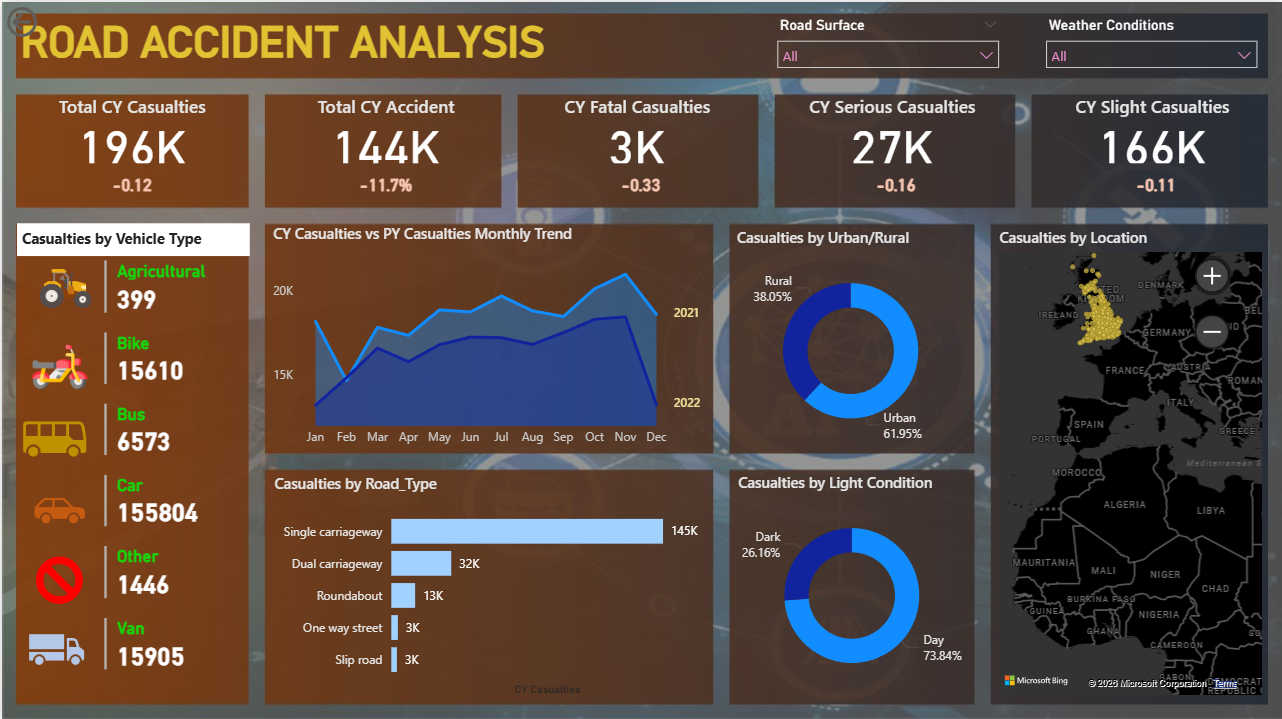

Layout of this report page (visuals, bound fields, positions):
{"tool":"powerbi","page":{"name":"Page 1","canvas":[1280,720],"ordinal":0},"visuals":[{"type":"group","id":"g1","title":"Group 2","box":[13.7,91.9,233.3,109.8],"z":0},{"type":"group","id":"g2","title":"Group 1","box":[13.7,91.9,233.3,74.1],"z":0,"group":"g1"},{"type":"card","title":"Total CY Casualties","fields":{"Values":["Data.CY Casualties"]},"box":[13.7,91.9,233.3,74.1],"z":0,"group":"g2"},{"type":"group","id":"g3","title":"Group 1","box":[267.6,91.9,233.3,74.1],"z":0,"group":"g7"},{"type":"card","title":"Total CY Accident","fields":{"Values":["Data.CY Acciedents"]},"box":[267.6,91.9,233.3,74.1],"z":0,"group":"g3"},{"type":"group","id":"g4","title":"Group 1","box":[519,91.9,233.3,74.1],"z":0,"group":"g8"},{"type":"card","title":"CY Fatal Casualties","fields":{"Values":["Data.CY Casualties"]},"box":[519,91.9,233.3,74.1],"z":0,"group":"g4"},{"type":"group","id":"g5","title":"Group 1","box":[773.9,91.9,233.3,74.1],"z":0,"group":"g9"},{"type":"card","title":"CY Serious Casualties","fields":{"Values":["Data.CY Casualties"]},"box":[773.9,91.9,233.3,74.1],"z":0,"group":"g5"},{"type":"group","id":"g6","title":"Group 1","box":[1033.3,91.9,233.3,74.1],"z":0,"group":"g10"},{"type":"card","title":"CY Slight Casualties","fields":{"Values":["Data.CY Casualties"]},"box":[1033.3,91.9,233.3,74.1],"z":0,"group":"g6"},{"type":"group","id":"g7","title":"Group 2","box":[267.6,91.9,233.3,109.8],"z":1000},{"type":"card","fields":{"Values":["Data.YoY Caualties"]},"box":[86.4,166,87.8,35.7],"z":1000,"group":"g1"},{"type":"card","fields":{"Values":["Data.YoY Accidents"]},"box":[340.3,166,87.8,35.7],"z":1000,"group":"g7"},{"type":"card","fields":{"Values":["Data.YoY Caualties","select"]},"box":[595.5,166,87.8,35.7],"z":1000,"group":"g8"},{"type":"card","fields":{"Values":["Data.YoY Caualties","select"]},"box":[850.4,166,87.8,35.7],"z":1000,"group":"g9"},{"type":"card","fields":{"Values":["Data.YoY Caualties","select"]},"box":[1109.8,166,87.8,35.7],"z":1000,"group":"g10"},{"type":"group","id":"g8","title":"Group 2","box":[519,91.9,233.3,109.8],"z":2000},{"type":"group","id":"g9","title":"Group 2","box":[773.9,91.9,233.3,109.8],"z":3000},{"type":"group","id":"g10","title":"Group 2","box":[1033.3,91.9,233.3,109.8],"z":4000},{"type":"textbox","box":[13.7,9.6,546.1,65.9],"z":5000},{"type":"multiRowCard","fields":{"Values":["Data.Vehicle_Type (groups)","Data.CY Casualties"]},"box":[97.5,253.8,150,443.8],"z":6000},{"type":"actionButton","box":[0,0,100,40],"z":7000},{"type":"image","box":[26.2,253.8,73.8,65],"z":8000},{"type":"image","box":[15,332.5,86.2,65],"z":9000},{"type":"image","box":[0,397.5,106.2,78.8],"z":10000},{"type":"image","box":[15,476.2,85,65],"z":11000},{"type":"image","box":[15,543.8,85,68.8],"z":12000},{"type":"image","box":[8.8,612.5,91.2,70],"z":13000},{"type":"textbox","box":[15,221.2,232.5,32.5],"z":14000},{"type":"areaChart","title":"CY Casualties vs PY Casualties Monthly Trend","fields":{"Category":["Calandar.Month"],"Y":["Sum(Data.Number_of_Casualties)"],"Series":["Calandar.Date.Variation.Date Hierarchy.Year"]},"box":[266.2,220.9,440.5,231.9],"z":15000},{"type":"donutChart","title":" Casualties by Urban/Rural","fields":{"Category":["Data.Urban_or_Rural_Area"],"Y":["Data.CY Casualties"]},"box":[729.9,224.4,237.7,228],"z":16000},{"type":"donutChart","title":"Casualties by Light Condition","fields":{"Y":["Data.CY Casualties"],"Category":["Data.Light_Conditions (groups)"]},"box":[731.2,470,237.5,227.5],"z":17000},{"type":"barChart","title":"Casualties by Road_Type","fields":{"Category":["Data.Road_Type"],"Y":["Data.CY Casualties"]},"box":[267.5,471.2,440,227.5],"z":18000},{"type":"map","title":"Casualties by Location","fields":{"Y":["Data.Latitude"],"X":["Data.Longitude"],"Category":["Data.Local_Authority_(District)"]},"box":[992.9,224.4,272.7,472.9],"z":19000},{"type":"slicer","fields":{"Values":["Data.Weather_Conditions (groups)"]},"box":[1033.8,10,231.2,66.2],"z":20000},{"type":"slicer","fields":{"Values":["Data.Road_Surface_Conditions (groups)"]},"box":[765.6,10,242.2,66.7],"z":21000}]}

Visuals, with their boxes in screenshot pixels (x1, y1, x2, y2), scaled from the page's 1280x720 canvas onto the 1282x719 screenshot:
"Group 2" group: region(14, 92, 247, 201)
"Group 1" group: region(14, 92, 247, 166)
"Total CY Casualties" card: region(14, 92, 247, 166)
"Group 1" group: region(268, 92, 502, 166)
"Total CY Accident" card: region(268, 92, 502, 166)
"Group 1" group: region(520, 92, 753, 166)
"CY Fatal Casualties" card: region(520, 92, 753, 166)
"Group 1" group: region(775, 92, 1009, 166)
"CY Serious Casualties" card: region(775, 92, 1009, 166)
"Group 1" group: region(1035, 92, 1269, 166)
"CY Slight Casualties" card: region(1035, 92, 1269, 166)
"Group 2" group: region(268, 92, 502, 201)
card - Data.YoY Caualties: region(87, 166, 174, 201)
card - Data.YoY Accidents: region(341, 166, 429, 201)
card - Data.YoY Caualties x select: region(596, 166, 684, 201)
card - Data.YoY Caualties x select: region(852, 166, 940, 201)
card - Data.YoY Caualties x select: region(1112, 166, 1199, 201)
"Group 2" group: region(520, 92, 753, 201)
"Group 2" group: region(775, 92, 1009, 201)
"Group 2" group: region(1035, 92, 1269, 201)
textbox: region(14, 10, 561, 75)
multiRowCard - Data.Vehicle_Type (groups) x Data.CY Casualties: region(98, 253, 248, 697)
actionButton: region(0, 0, 100, 40)
image: region(26, 253, 100, 318)
image: region(15, 332, 101, 397)
image: region(0, 397, 106, 476)
image: region(15, 476, 100, 540)
image: region(15, 543, 100, 612)
image: region(9, 612, 100, 682)
textbox: region(15, 221, 248, 253)
"CY Casualties vs PY Casualties Monthly Trend" areaChart: region(267, 221, 708, 452)
" Casualties by Urban/Rural" donutChart: region(731, 224, 969, 452)
"Casualties by Light Condition" donutChart: region(732, 469, 970, 697)
"Casualties by Road_Type" barChart: region(268, 471, 709, 698)
"Casualties by Location" map: region(994, 224, 1268, 696)
slicer - Data.Weather_Conditions (groups): region(1035, 10, 1267, 76)
slicer - Data.Road_Surface_Conditions (groups): region(767, 10, 1009, 77)
